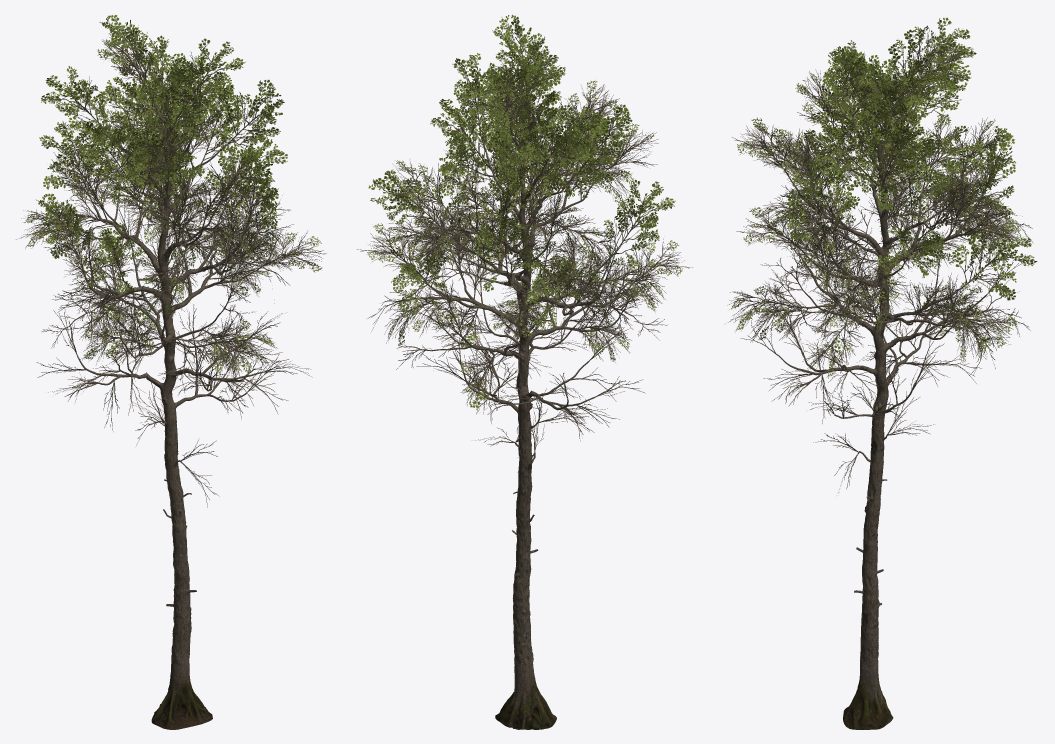
The model's file is SM_BlackAlder_Forest_03_PP_LOD1.gltf.
3 renders of one model, left to right at view 1: azimuth 30°, elevation 25°; view 2: azimuth 150°, elevation 25°; view 3: azimuth 270°, elevation 25°, orthographic.
Parts seen in each view (by area): view 1: SM_BlackAlder_Forest_03_PP; view 2: SM_BlackAlder_Forest_03_PP; view 3: SM_BlackAlder_Forest_03_PP.
Boxes of the visible parts, bbox=[...] form: SM_BlackAlder_Forest_03_PP: bbox=[16, 15, 326, 729]; SM_BlackAlder_Forest_03_PP: bbox=[357, 14, 692, 729]; SM_BlackAlder_Forest_03_PP: bbox=[724, 17, 1037, 729].
Bounding box in the file's own units: 7.24 × 17.69 × 7.39.
4 materials, 4 textured.
